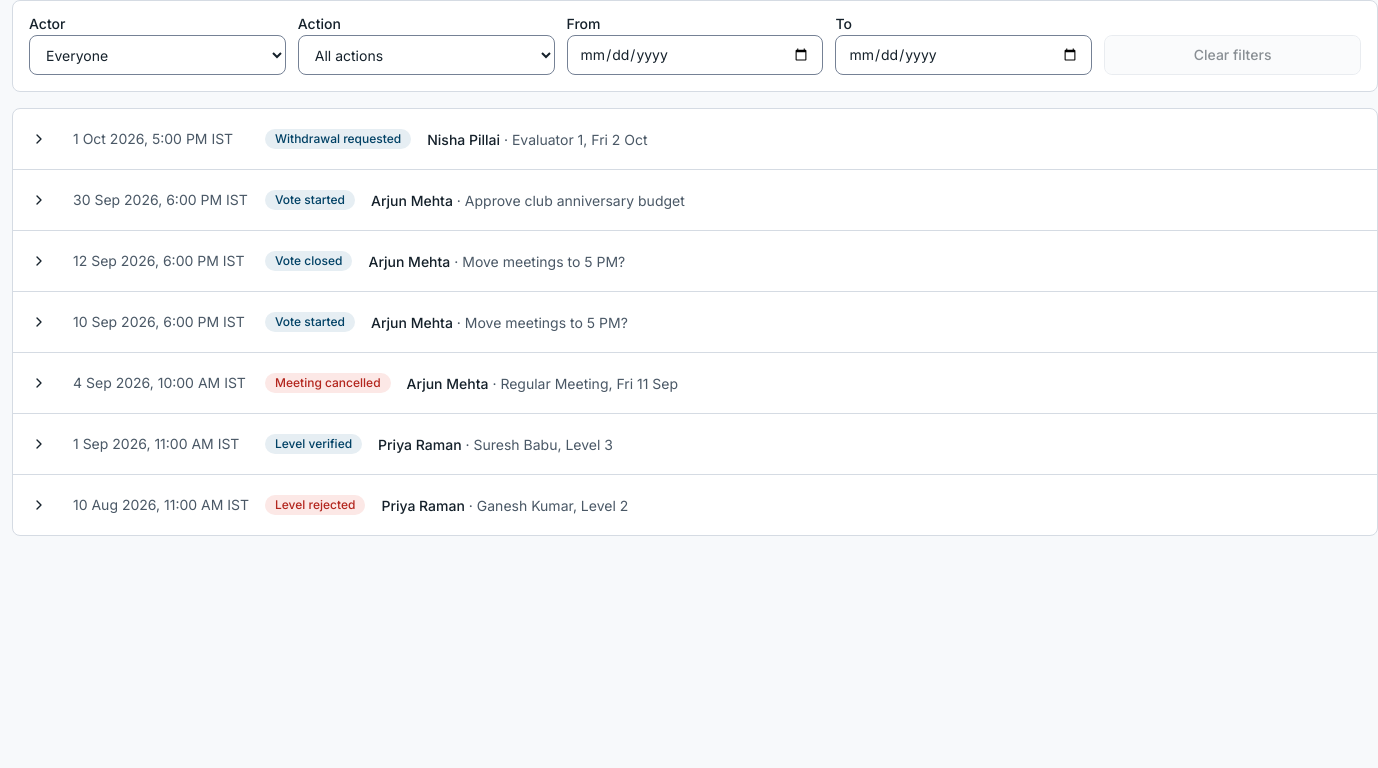
Test case: S-16 Audit log › filters by actor, action and date, each clearable; an empty result says so
Select "Priya Raman" in the dropdown labelled "Actor" at [157, 55], box left=29, top=35, right=286, bottom=75
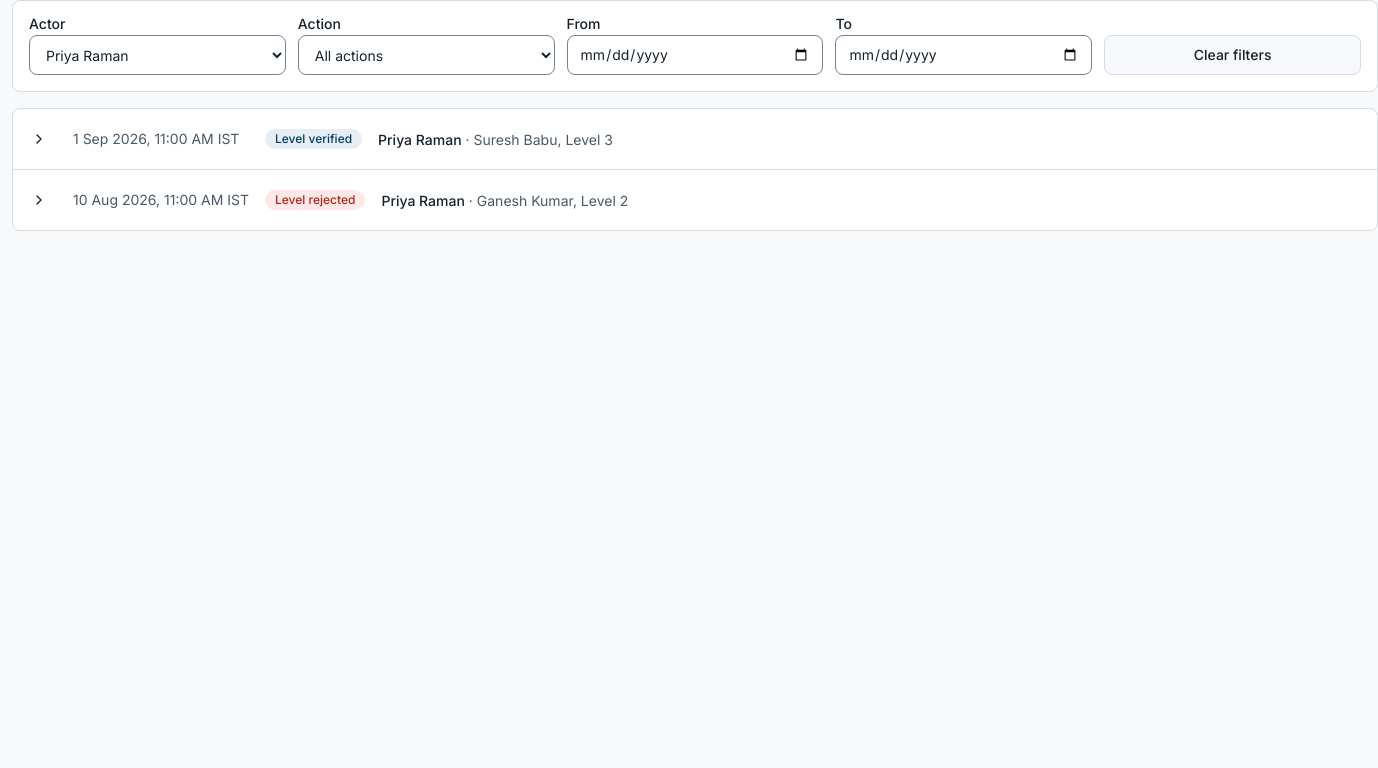
expect the number of list items is 2: met, box left=13, top=109, right=1377, bottom=170; left=21, top=182, right=628, bottom=218
Select "Level verified" in the dropdown labelled "Action" at [426, 55], box left=298, top=35, right=555, bottom=75
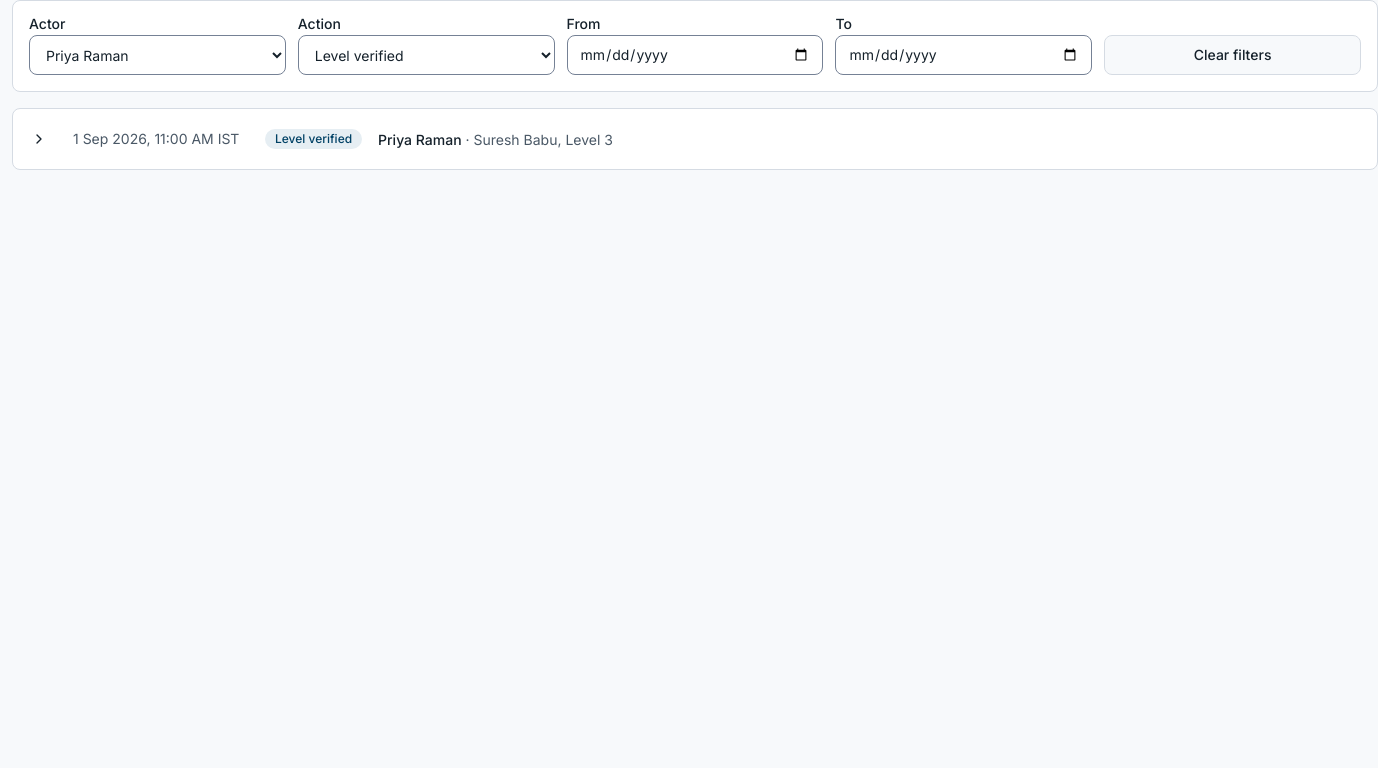
expect the number of list items is 1: met, box left=21, top=121, right=613, bottom=157
Type "2026-10-01" into the date field labelled "From" at [695, 55], box left=567, top=35, right=823, bottom=75
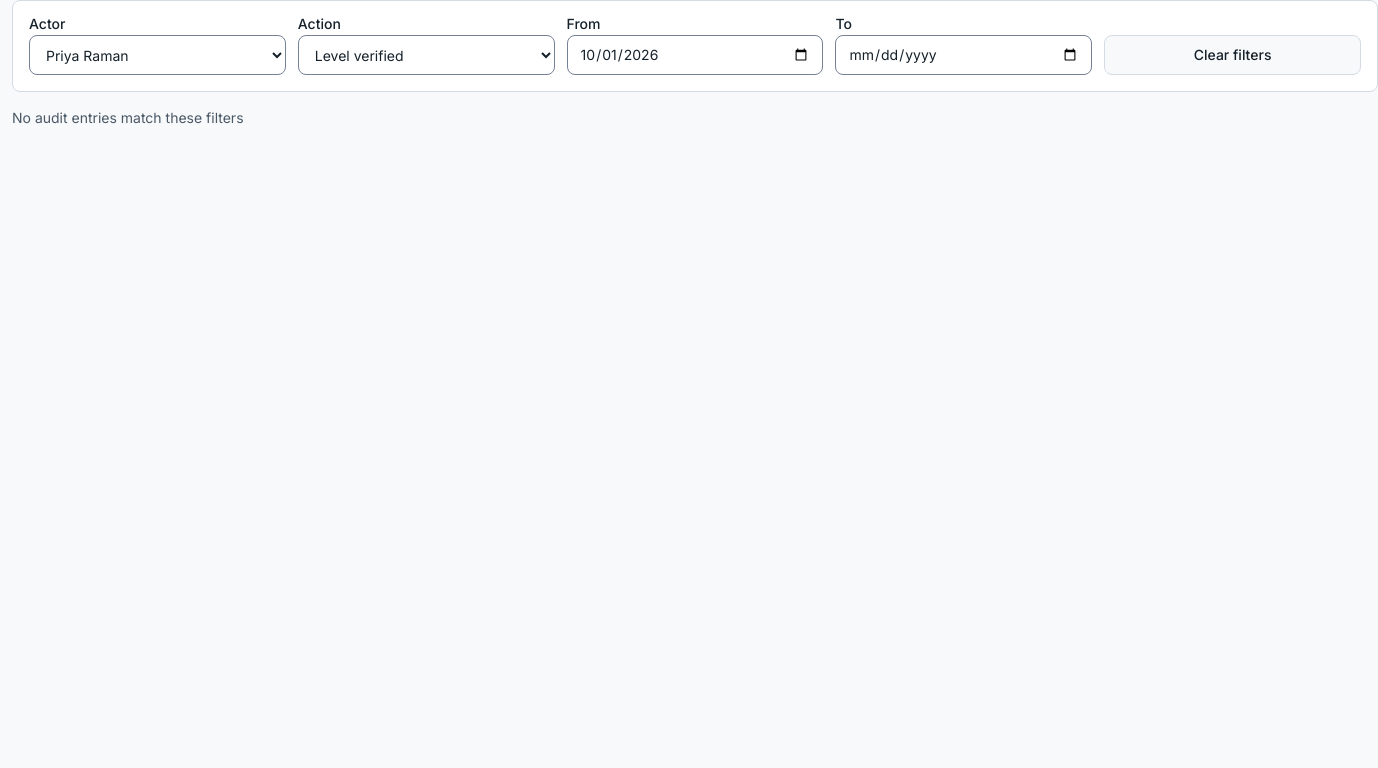
expect the text "No audit entries match these filters" is shown: met, box left=12, top=109, right=244, bottom=126
Click the button "Clear filters" at [1233, 55], box left=1104, top=35, right=1361, bottom=75
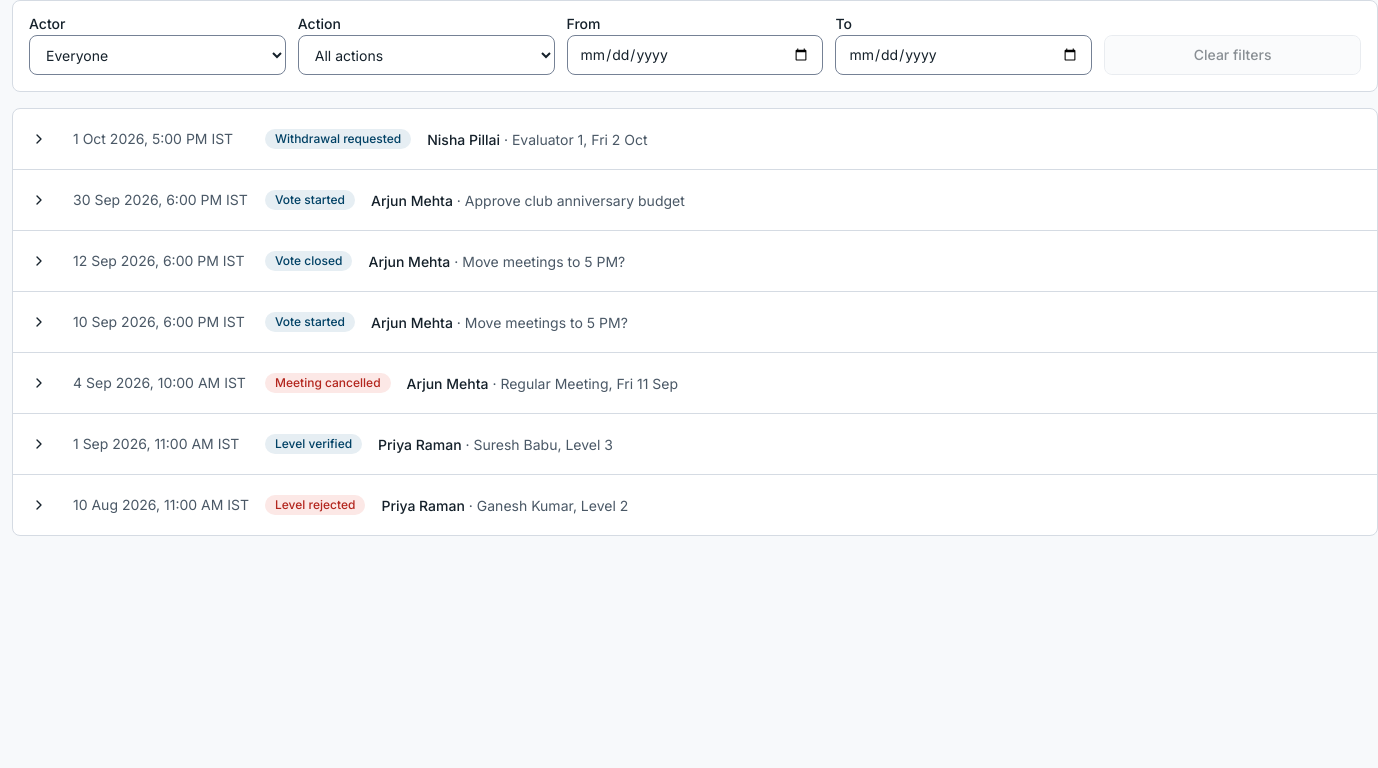
expect the number of list items is 7: met
